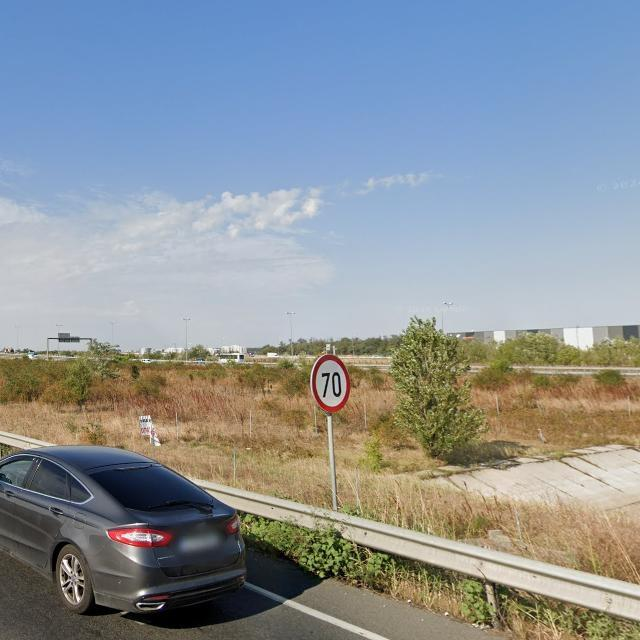forb_speed_over_70: (310, 355, 351, 412)
